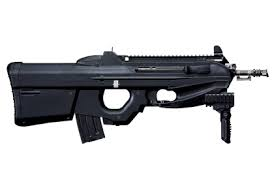gun: (6, 49, 269, 145)
